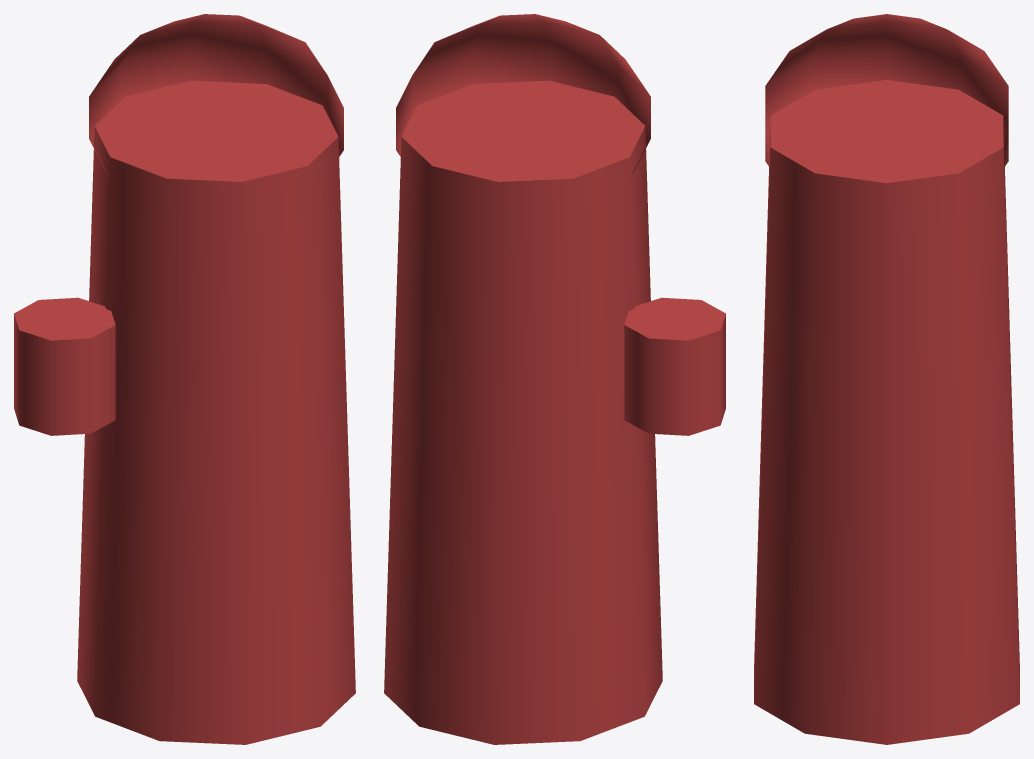
File: prop_hydrant.glb
The picture shows the model from 3 angles, left to right: view 1: azimuth 30°, elevation 25°; view 2: azimuth 150°, elevation 25°; view 3: azimuth 270°, elevation 25°; orthographic projection.
Visible parts, largest first — view 1: body; view 2: body; view 3: body.
Part boxes in pixels (x1,y1,x2,y2): body: (14,14,355,744); body: (384,14,725,744); body: (754,14,1019,744).
Size of the model in its own units: 0.42 by 0.83 by 0.3043.
